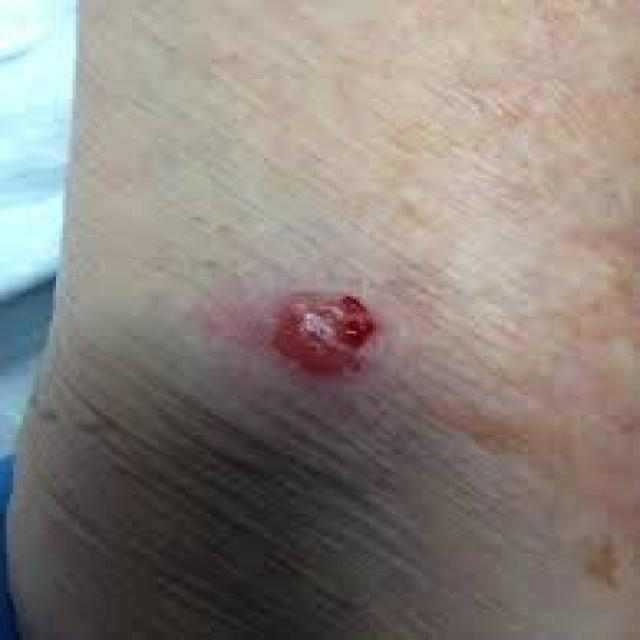stage-2: (267, 296, 373, 374)
